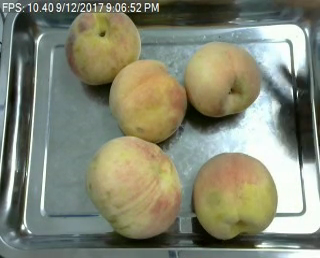Peach: (85, 135, 181, 239), (193, 151, 279, 239), (108, 59, 188, 143), (64, 3, 141, 87), (184, 41, 260, 117)
